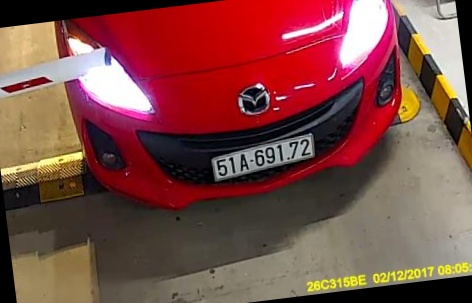plate: (208, 132, 315, 190)
